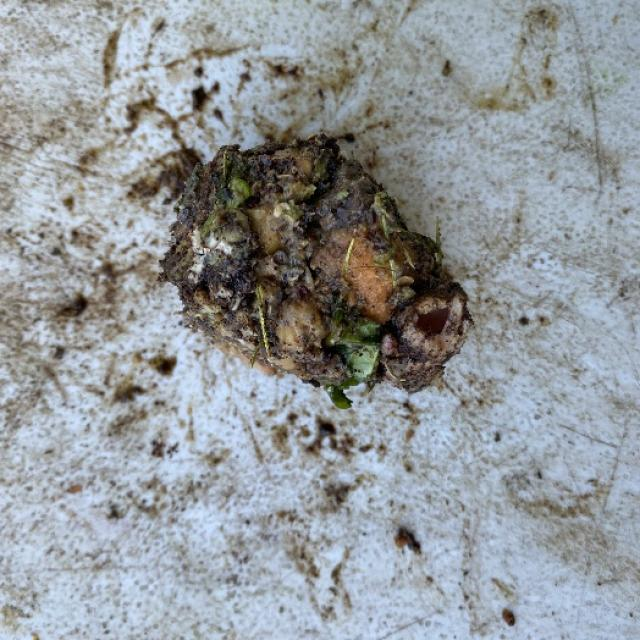organik: (168, 139, 482, 402)
